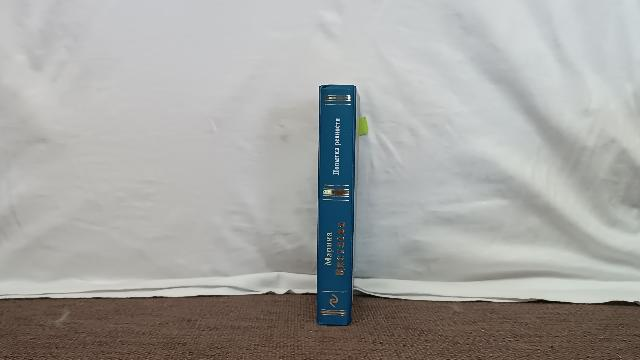book-s-spine: (317, 85, 355, 326)
